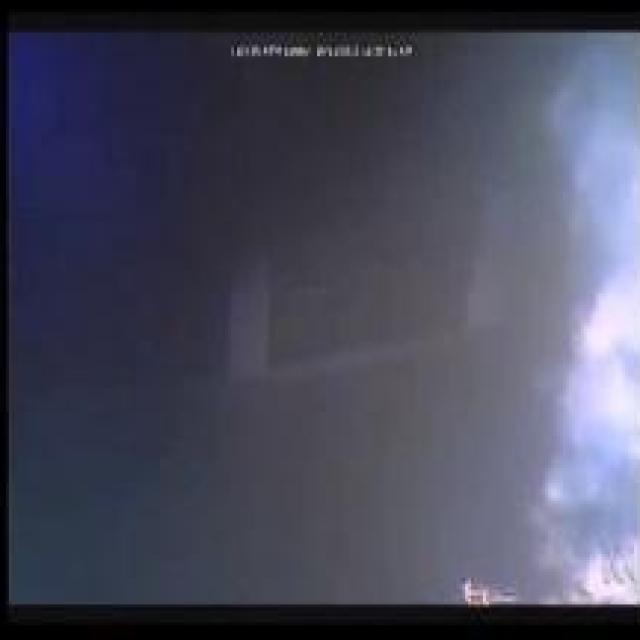fire: (548, 36, 640, 510)
smoke: (453, 540, 640, 608)
